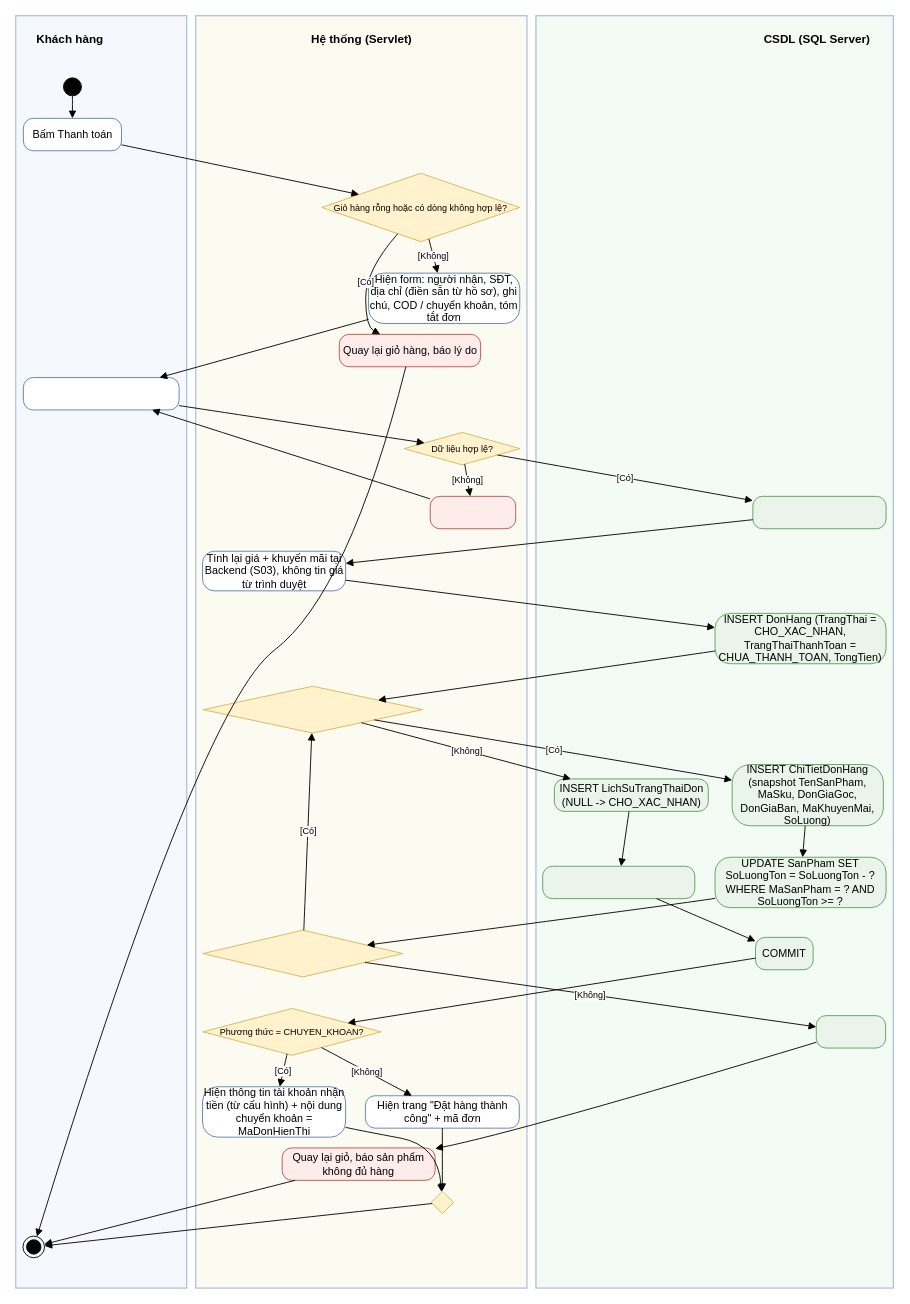
Some shapes in this 910 by 1304 pixel diagram are drawn without their labels. The centre of each missing label's shape, as x and y in pixels:
"BEGIN TRANSACTION (setAutoCommit(false))" belongs at point 819,512.
"Báo lỗi từng ô" belongs at point 472,512.
"Còn dòng giỏ chưa xử lý?" belongs at point 312,709.
"DELETE GioHang của khách" belongs at point 618,882.
"Nhập / sửa thông tin, chọn phương thức, bấm Xác nhận" belongs at point 100,393.
"ROLLBACK" belongs at point 850,1031.
"Số dòng cập nhật = 1?" belongs at point 302,953.
